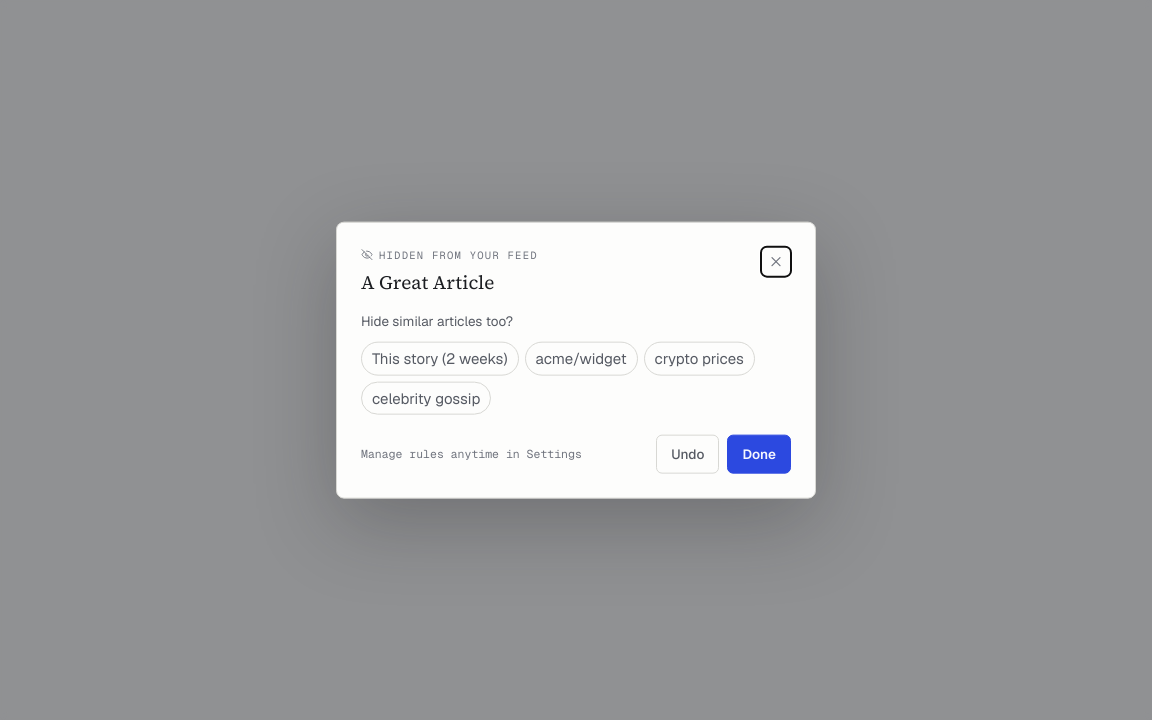
Test case: <NotInterestedModal> › posts the right body for a topic chip and shows the extra-hits caption
The width and height of the screenshot is (1152, 720).
Click the button "crypto prices".
click(699, 359)  # box [644,342,755,375]
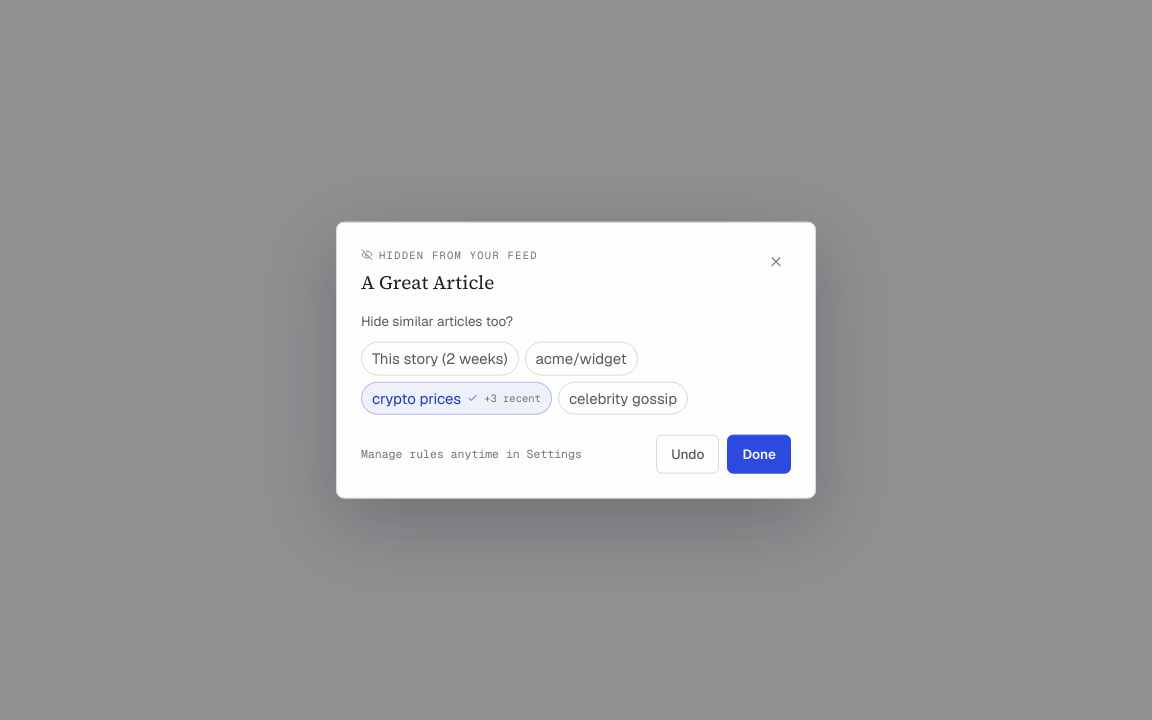
Expected: the text "+3 recent" is shown, [484,390,541,406]
